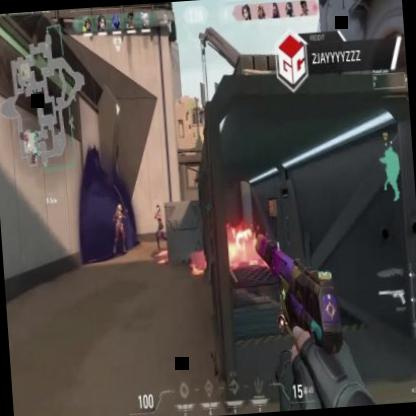enemy: (109, 201, 130, 254), (152, 204, 170, 252)
enemy_head: (116, 203, 122, 212), (156, 204, 161, 212)
